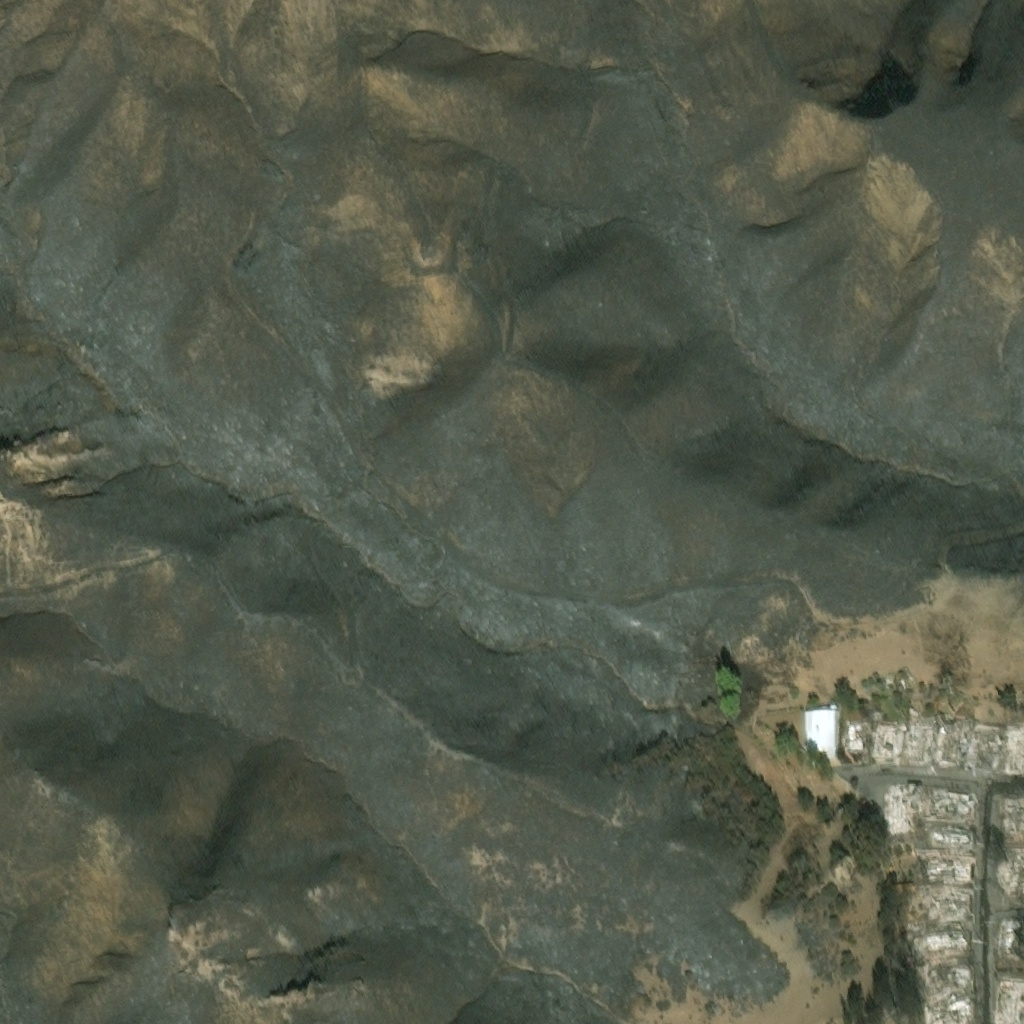0 no-damage: (804, 698, 841, 763)
3 destroyed: (932, 708, 970, 762), (901, 704, 933, 761), (887, 784, 923, 832), (966, 719, 1000, 766), (924, 855, 972, 885), (926, 956, 971, 988), (925, 920, 969, 952), (927, 991, 971, 1023), (927, 788, 972, 819), (928, 887, 969, 918), (931, 821, 973, 850), (999, 718, 1023, 764), (999, 977, 1023, 1023), (873, 719, 901, 757), (999, 917, 1023, 959), (1001, 852, 1023, 894), (1002, 793, 1023, 831), (842, 720, 868, 750), (910, 918, 925, 941), (890, 841, 917, 853), (910, 883, 924, 901), (870, 704, 880, 715)
